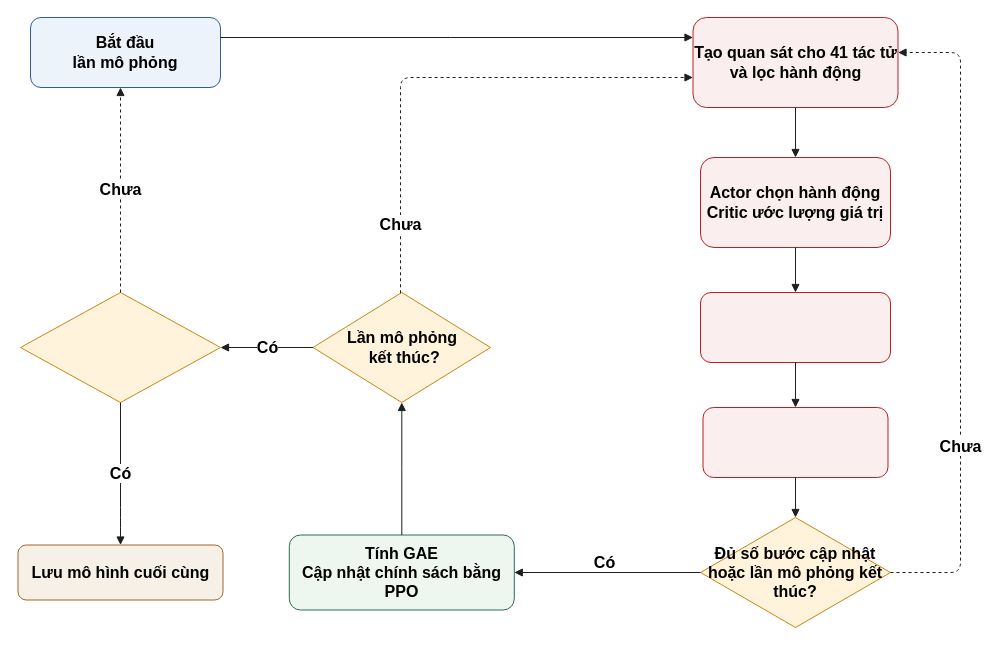
Image size: 998x645. Some labels were removed from this diagram. The shapes that lost their labels are listed below. From the top down, each one's box as (x1, y1, x2, y2) in pixels, then its label:
(20, 292, 220, 402): Đủ số lần mô phỏng ?
(700, 292, 890, 362): Thực thi trong SUMO 5 giây mô phỏng
(702, 406, 888, 478): Tính phần thưởng và lưu dữ liệu tương tác
